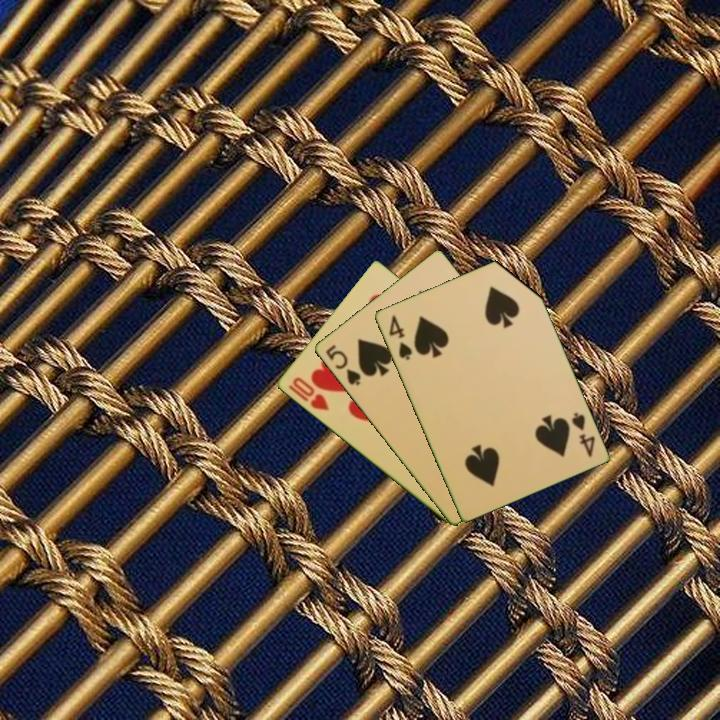10h: (289, 373, 332, 414)
4s: (385, 311, 415, 363), (568, 408, 598, 460)
5s: (322, 341, 363, 389)
